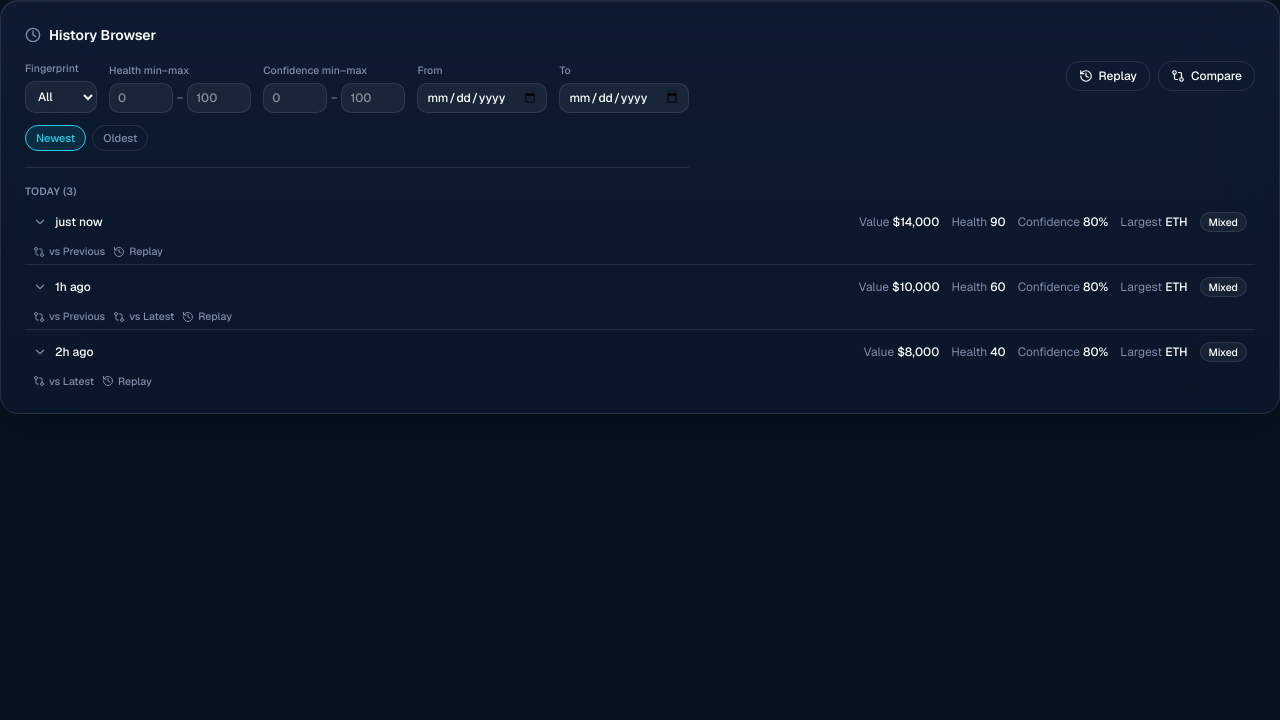
Test: HistoryBrowserSection — V4-HISTORY-003 Snapshot Compare › REPLACEMENT: clicking an already-selected snapshot again deselects it, freeing the slot for a different one
The width and height of the screenshot is (1280, 720).
Click the button "Compare" at point(1206, 76), box [1158, 61, 1255, 91]
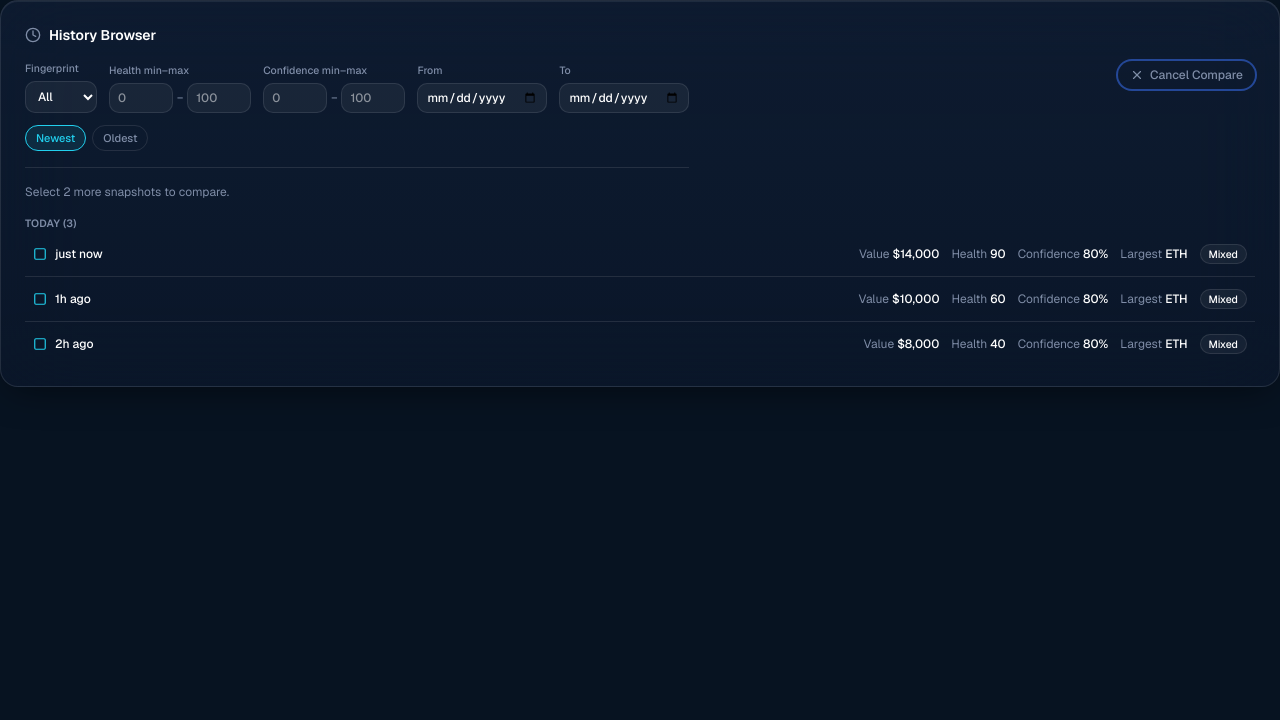
Click the button "Health 40" at point(74, 344), box [25, 326, 1255, 362]
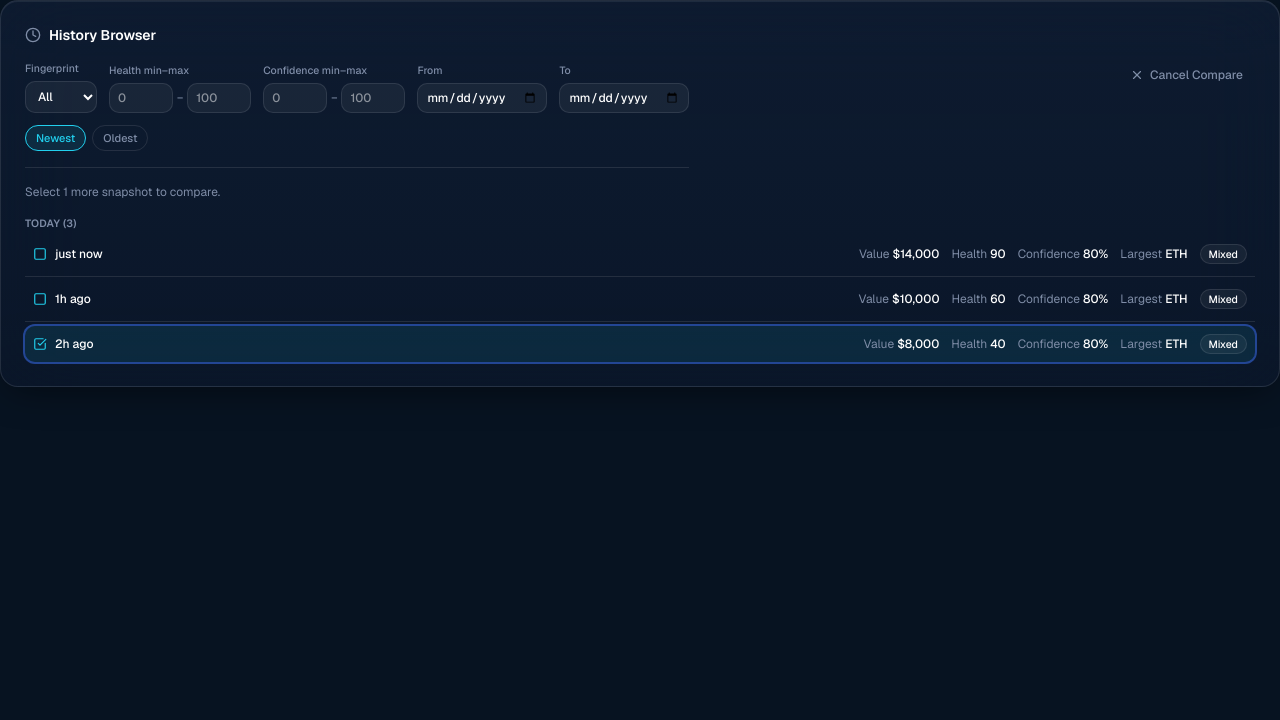
expect the button "Health 40" is pressed: met
Click the button "Health 40" at point(74, 344), box [25, 326, 1255, 362]
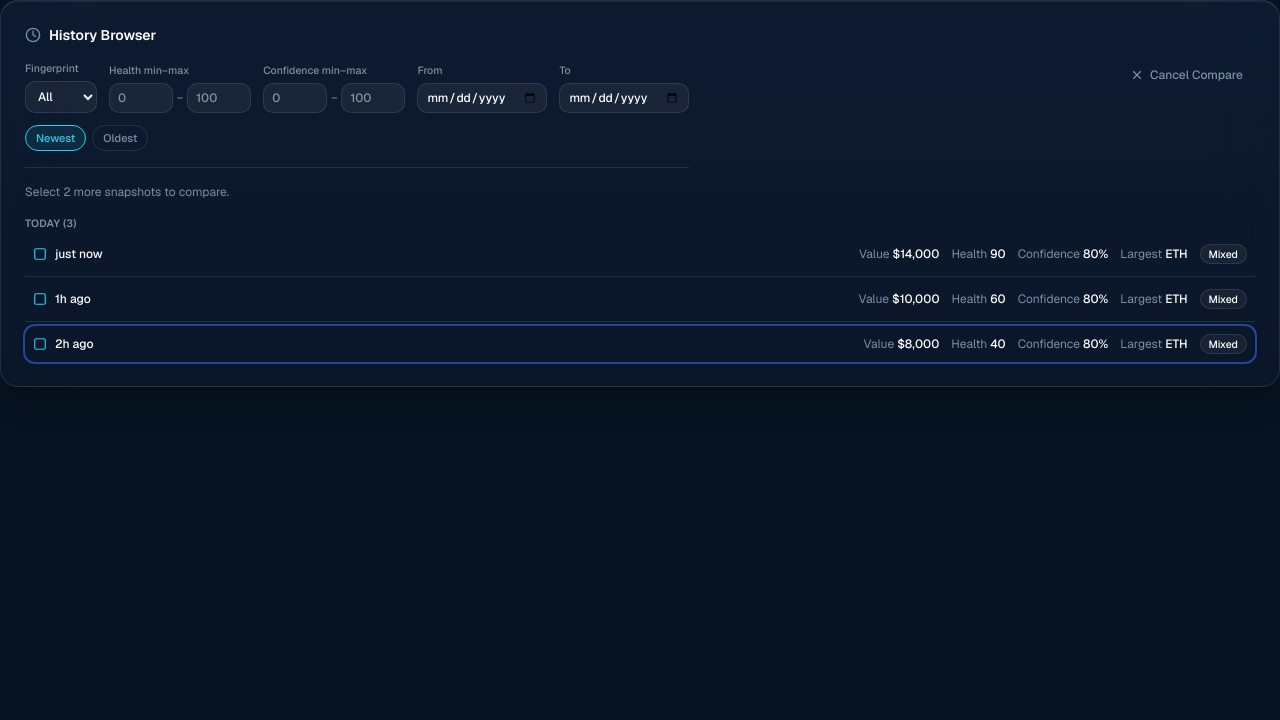
expect the text "Select 2 more snapshots to compare." is shown: met, box [25, 184, 229, 200]
now select a genuinely different pair
Click the button "Health 60" at point(73, 299), box [25, 281, 1255, 317]
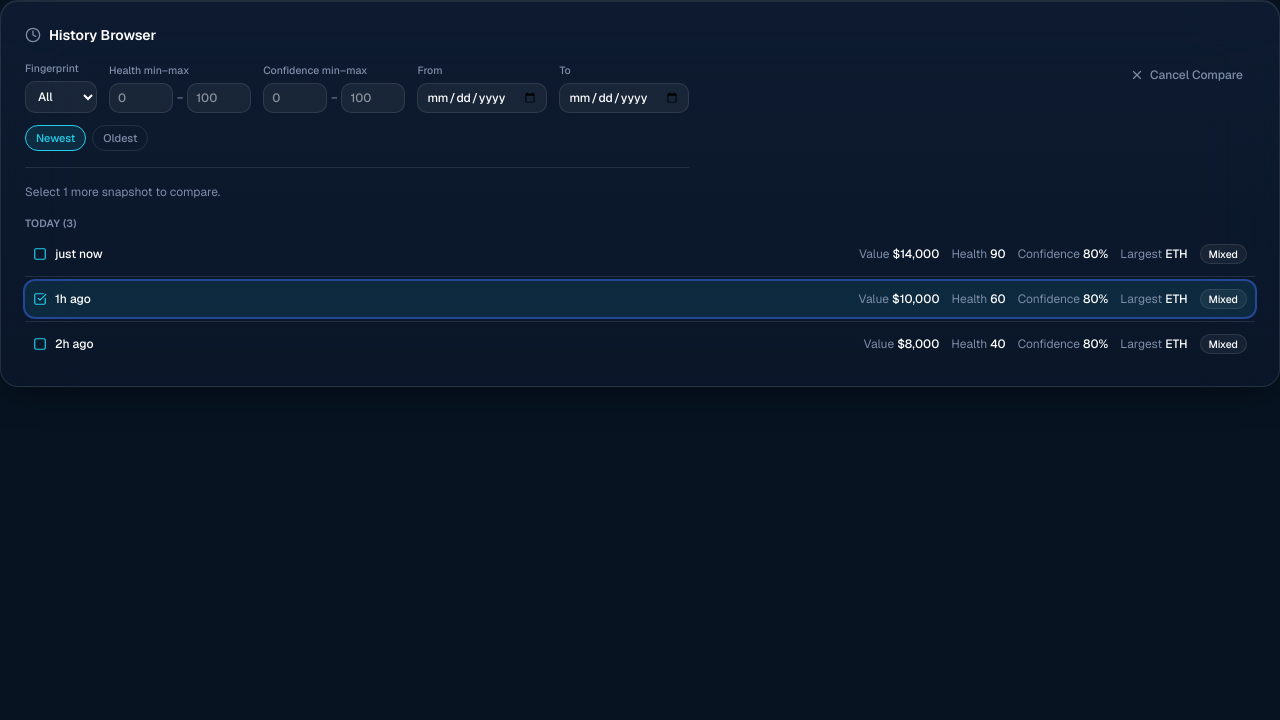
Click the button "Health 90" at point(79, 254), box [25, 236, 1255, 272]
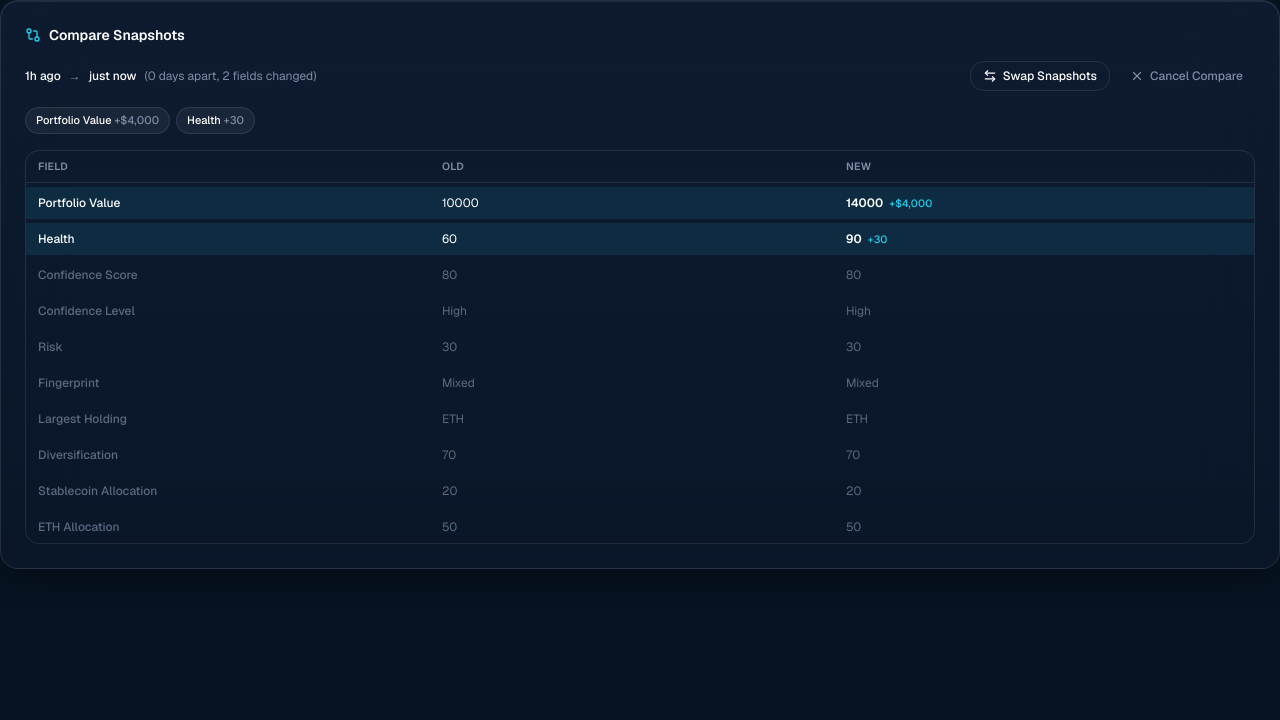
expect the text "+30" is shown 2 times: met, box [224, 113, 244, 127]; [868, 232, 887, 246]
expect the heading "Compare Snapshots" is shown: met, box [49, 25, 185, 45]
